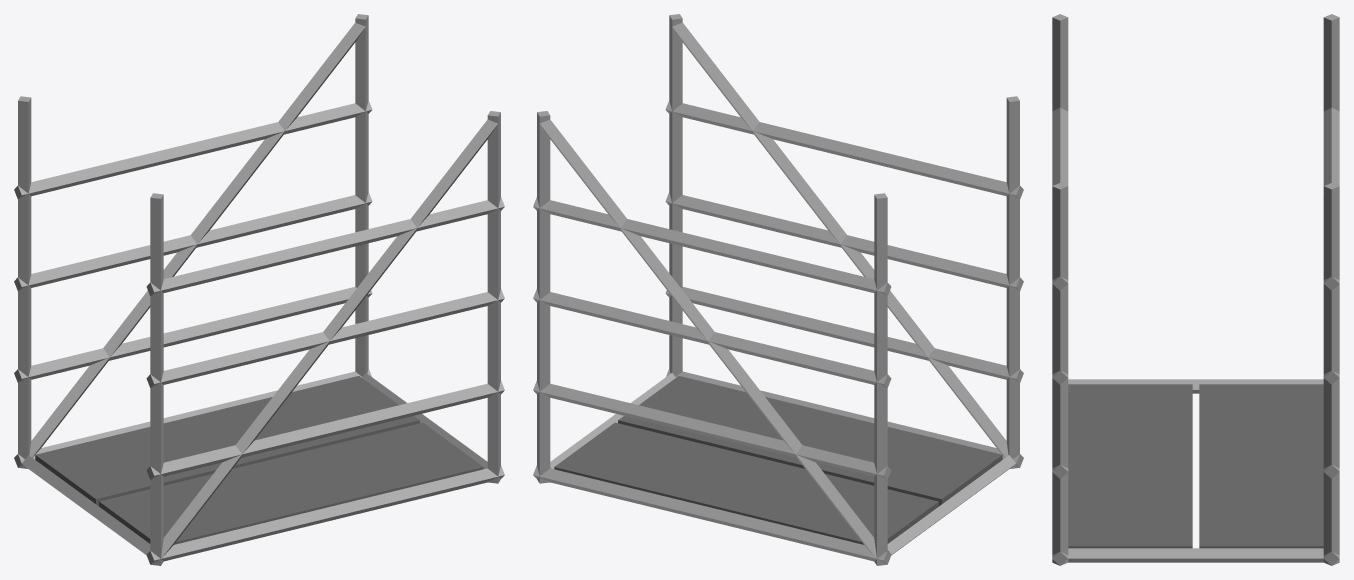
Rendered from ScaffOlding_1.fbx.
3 renders of one model, left to right at view 1: azimuth 30°, elevation 25°; view 2: azimuth 150°, elevation 25°; view 3: azimuth 270°, elevation 25°, orthographic. The views are drawn at different scales.
Visible parts, largest first — view 1: Cylinder; view 2: Cylinder; view 3: Cylinder.
Boxes of the visible parts, left/top/right/bottom form: Cylinder: left=14, top=14, right=504, bottom=565; Cylinder: left=533, top=14, right=1023, bottom=565; Cylinder: left=1052, top=14, right=1339, bottom=565.
Bounding box in the file's own units: 325 × 325 × 225.
